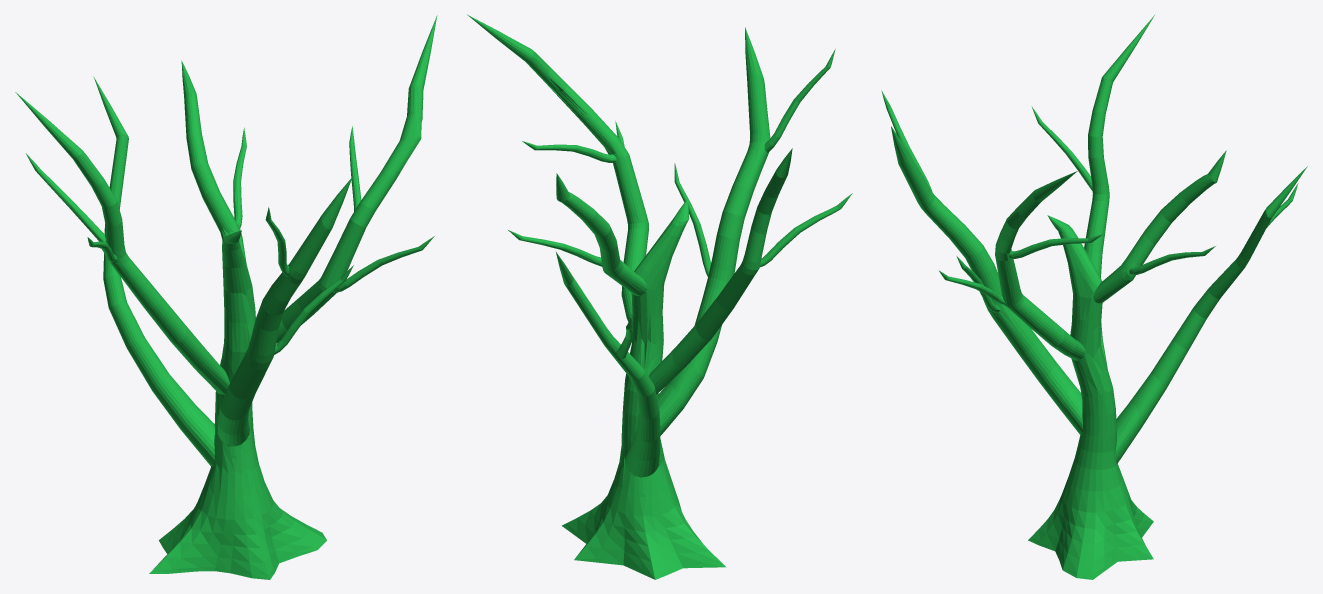
File: tree.glb
3 renders of one model, left to right at view 1: azimuth 30°, elevation 25°; view 2: azimuth 150°, elevation 25°; view 3: azimuth 270°, elevation 25°, orthographic. The views are drawn at different scales.
Bounding box in the file's own units: 0.0943 × 0.118 × 0.0999.
